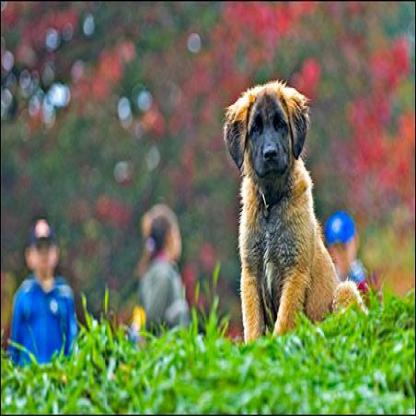Leonberg: (223, 79, 365, 344)
